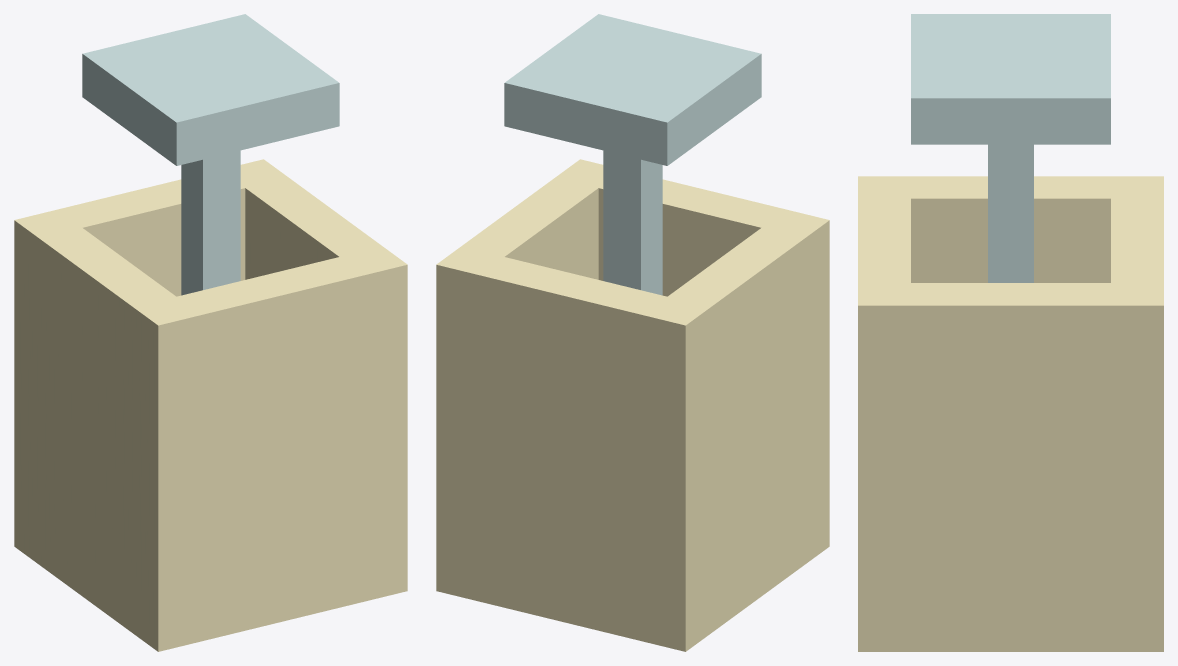
The model's file is lampSquareCeiling.glb.
3 renders of one model, left to right at view 1: azimuth 30°, elevation 25°; view 2: azimuth 150°, elevation 25°; view 3: azimuth 270°, elevation 25°, orthographic. The views are drawn at different scales.
Visible parts, largest first — view 1: lampSquareCeiling; view 2: lampSquareCeiling; view 3: lampSquareCeiling.
Boxes of the visible parts, x1,y1,x2,y2 form: lampSquareCeiling: (14,14,407,651); lampSquareCeiling: (436,14,829,651); lampSquareCeiling: (858,14,1163,651).
Size of the model in its own units: 1.2 by 2.3 by 1.2.
